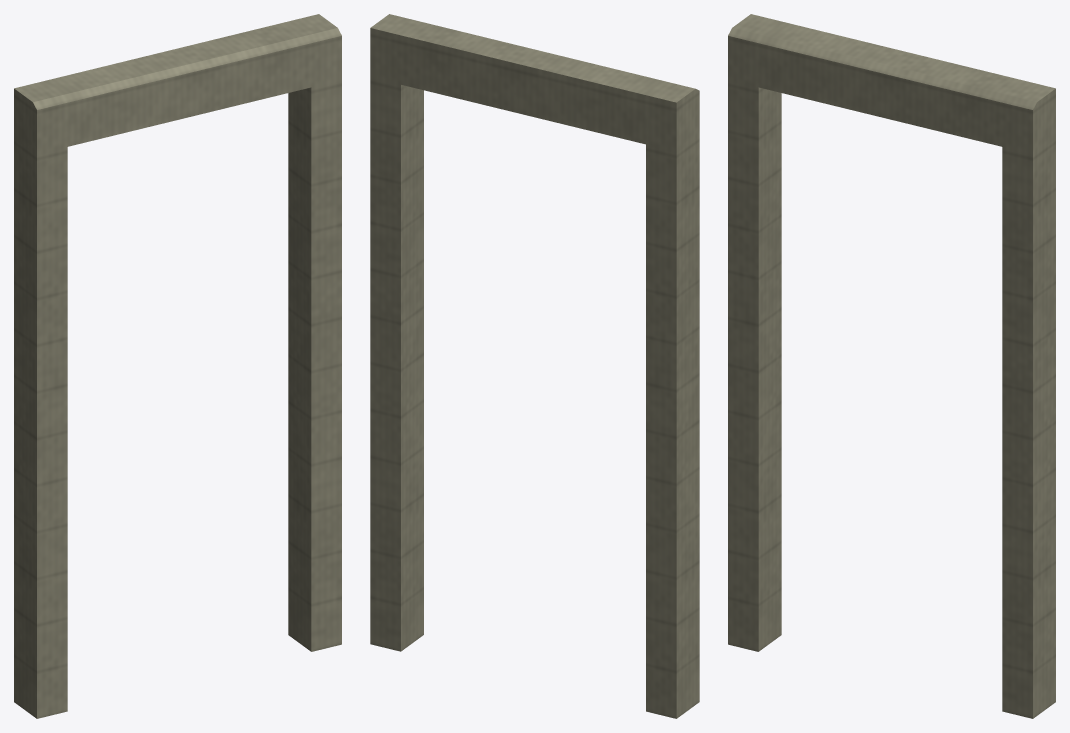
Rendered from residential-entry-surround.lod1.glb.
The picture shows the model from 3 angles, left to right: view 1: azimuth 30°, elevation 25°; view 2: azimuth 150°, elevation 25°; view 3: azimuth 330°, elevation 25°; orthographic projection.
Parts seen in each view (by area): view 1: residential-entry-surround; view 2: residential-entry-surround; view 3: residential-entry-surround.
Boxes of the visible parts, <box> form: residential-entry-surround: <box>14,14,341,718</box>; residential-entry-surround: <box>370,14,699,718</box>; residential-entry-surround: <box>728,14,1055,718</box>.
Bounding box in the file's own units: 1.3 × 2.5 × 0.17.
1 material, 1 textured.
